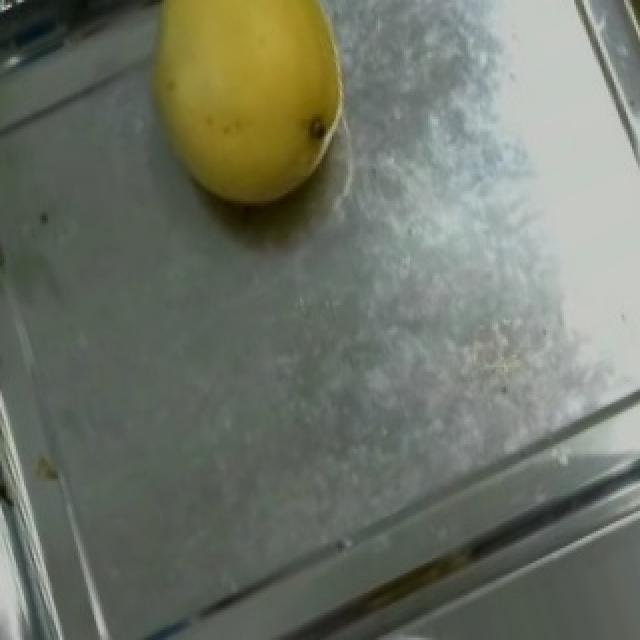fruit: (104, 0, 396, 246)
